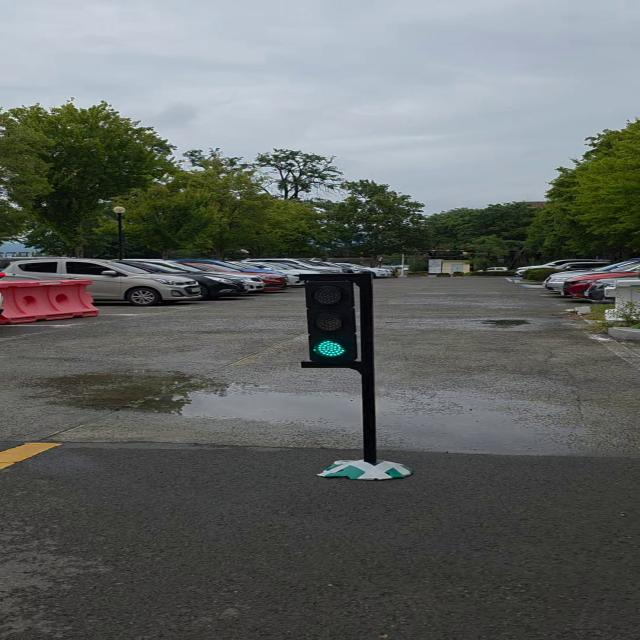green: (306, 277, 370, 365)
